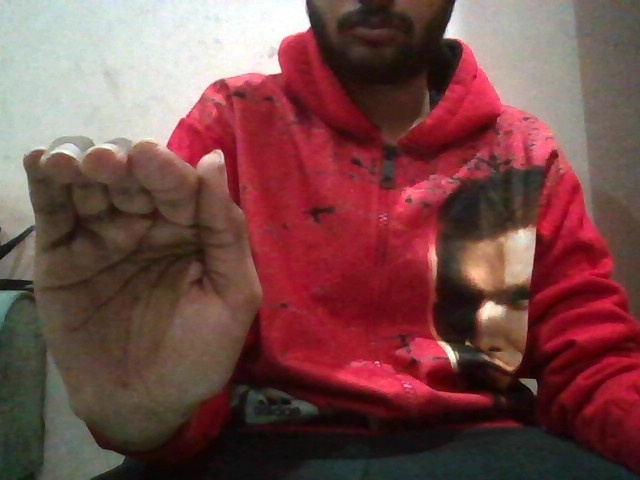C: (14, 129, 272, 442)
